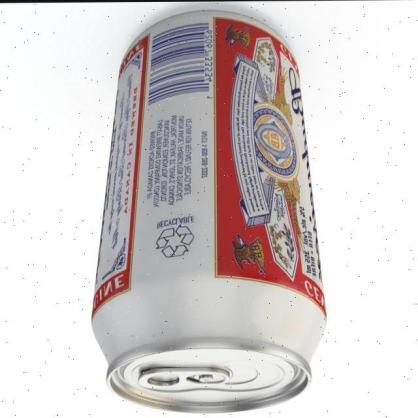can: (89, 8, 314, 414)
